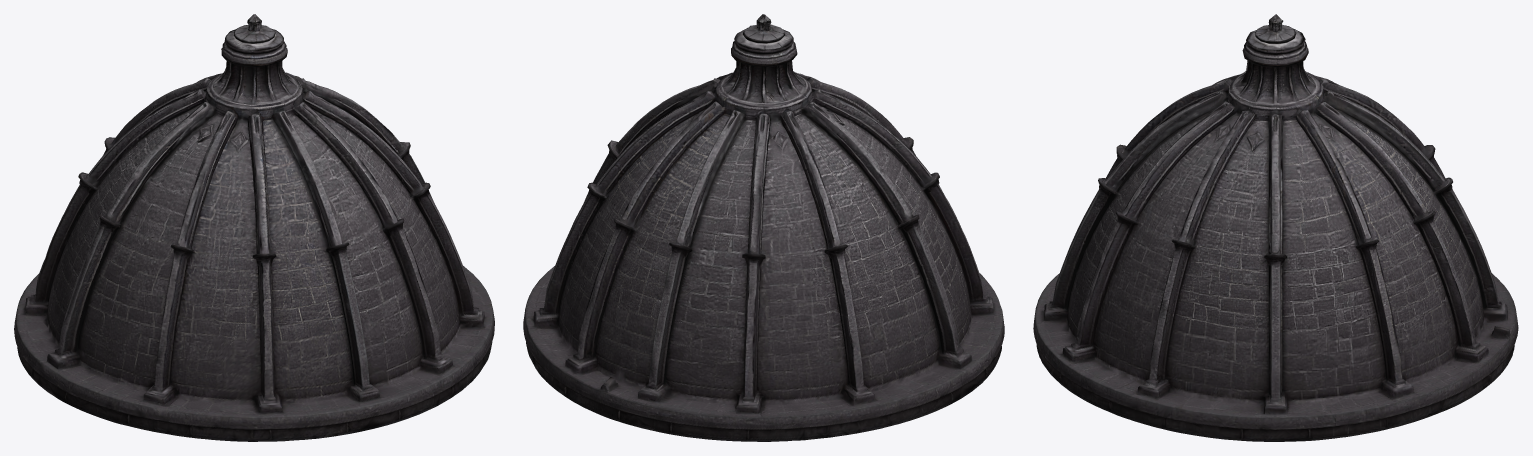
Rendered from prison_dome2.glb.
The picture shows the model from 3 angles, left to right: view 1: azimuth 30°, elevation 25°; view 2: azimuth 150°, elevation 25°; view 3: azimuth 270°, elevation 25°; orthographic projection.
Visible parts, largest first — view 1: tripo_node_4b8bd270-d716-45ab-87b6-9a7f0b77cb04; view 2: tripo_node_4b8bd270-d716-45ab-87b6-9a7f0b77cb04; view 3: tripo_node_4b8bd270-d716-45ab-87b6-9a7f0b77cb04.
Part boxes in pixels (box(x1,y1,x2,y2)): tripo_node_4b8bd270-d716-45ab-87b6-9a7f0b77cb04: box(14, 14, 494, 441); tripo_node_4b8bd270-d716-45ab-87b6-9a7f0b77cb04: box(523, 14, 1004, 441); tripo_node_4b8bd270-d716-45ab-87b6-9a7f0b77cb04: box(1033, 14, 1518, 441).
Bounding box in the file's own units: 0.999 × 0.7429 × 1.
Materials: 1 (1 with a texture image).
